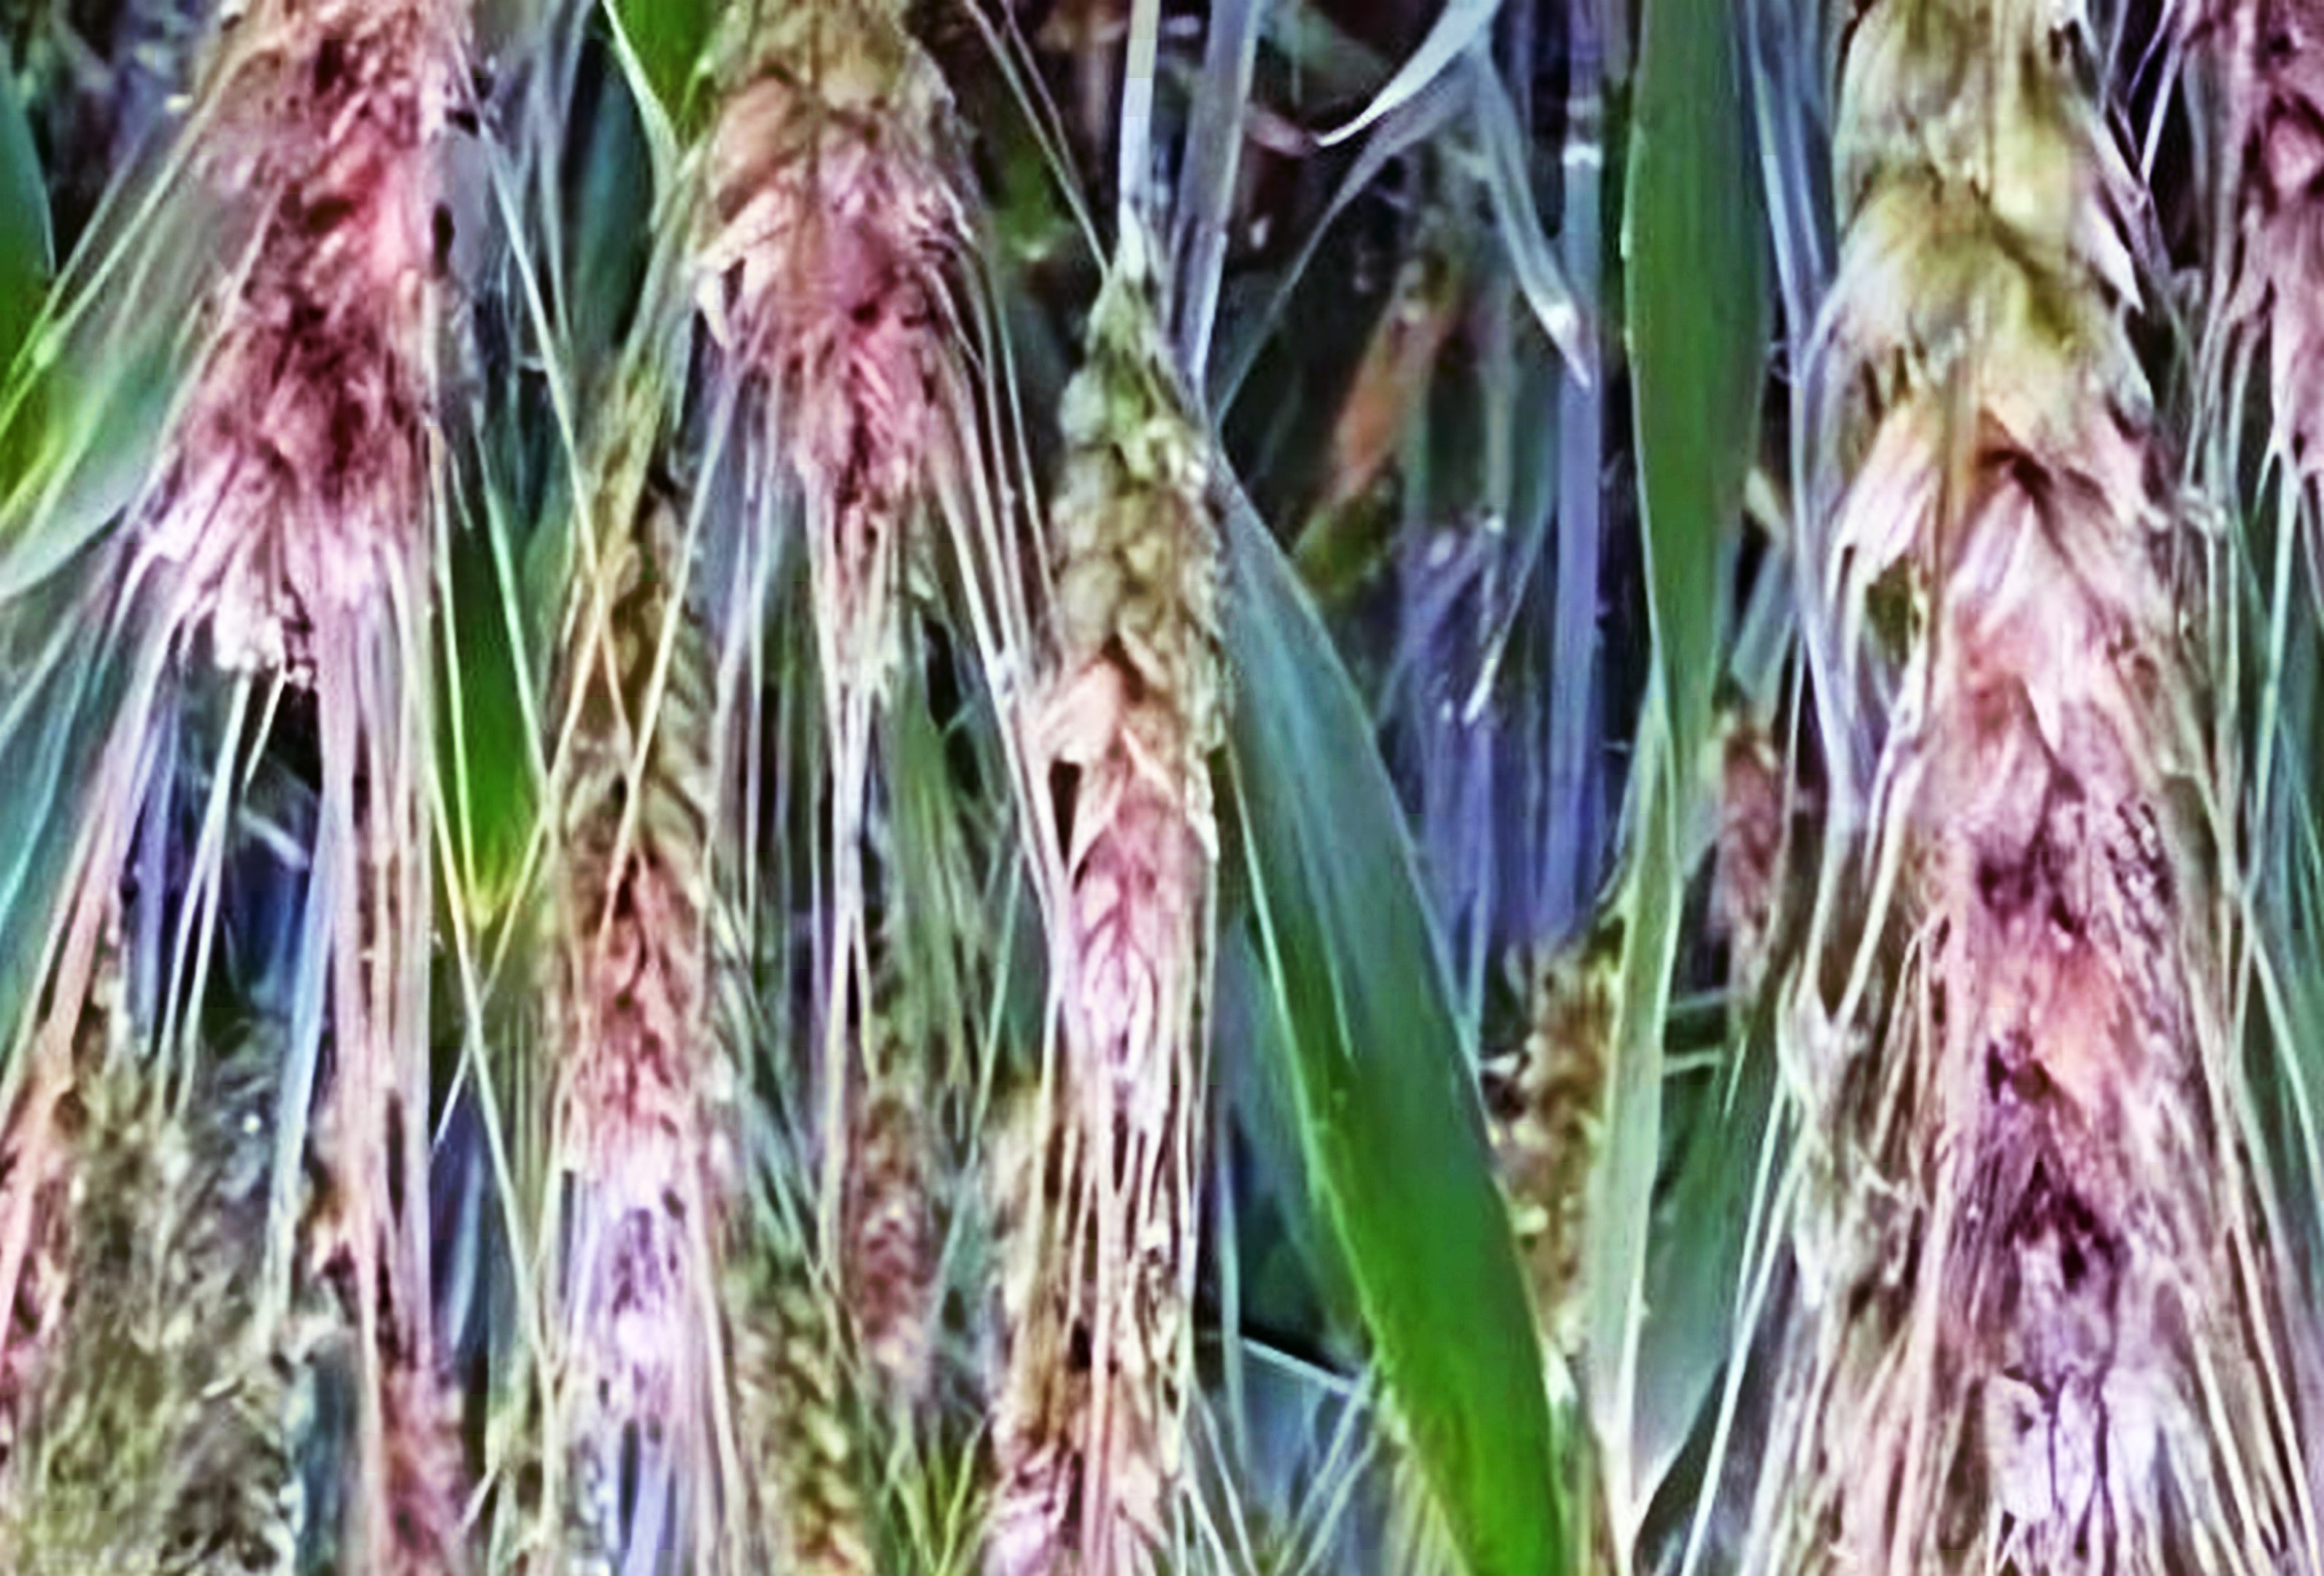Wheat scab: (1008, 262, 1272, 1110)
